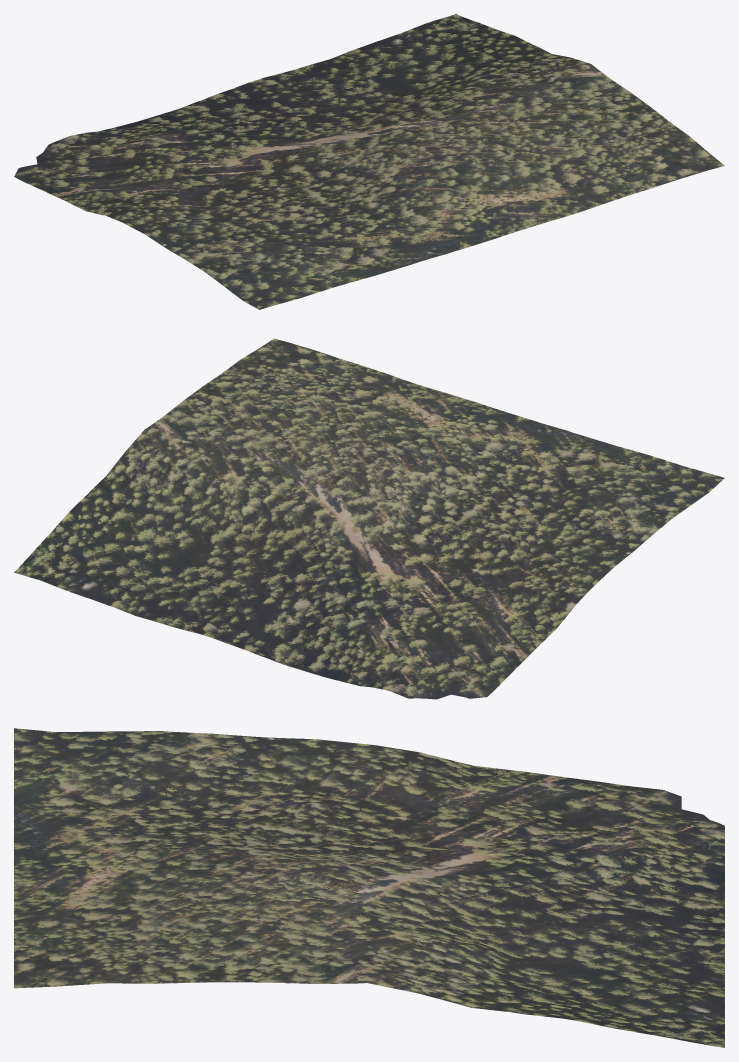
Rendered from CM_Terrain_24489844_6822865.fbx.
The picture shows the model from 3 angles, top to bottom: view 1: azimuth 30°, elevation 25°; view 2: azimuth 150°, elevation 25°; view 3: azimuth 270°, elevation 25°; orthographic projection. The views are drawn at different scales.
Visible parts, largest first — view 1: CM_Terrain_24489844_6822865_LOD0; view 2: CM_Terrain_24489844_6822865_LOD0; view 3: CM_Terrain_24489844_6822865_LOD0.
Boxes of the visible parts, x1,y1,x2,y2 form: CM_Terrain_24489844_6822865_LOD0: (14,14,724,309); CM_Terrain_24489844_6822865_LOD0: (14,338,724,699); CM_Terrain_24489844_6822865_LOD0: (14,728,724,1047).
Size of what is drawn, in the model's own units: 205 by 34.49 by 205.
